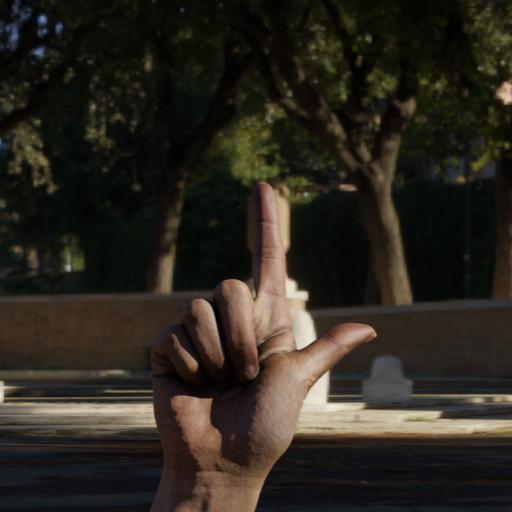L: (141, 173, 380, 491)
